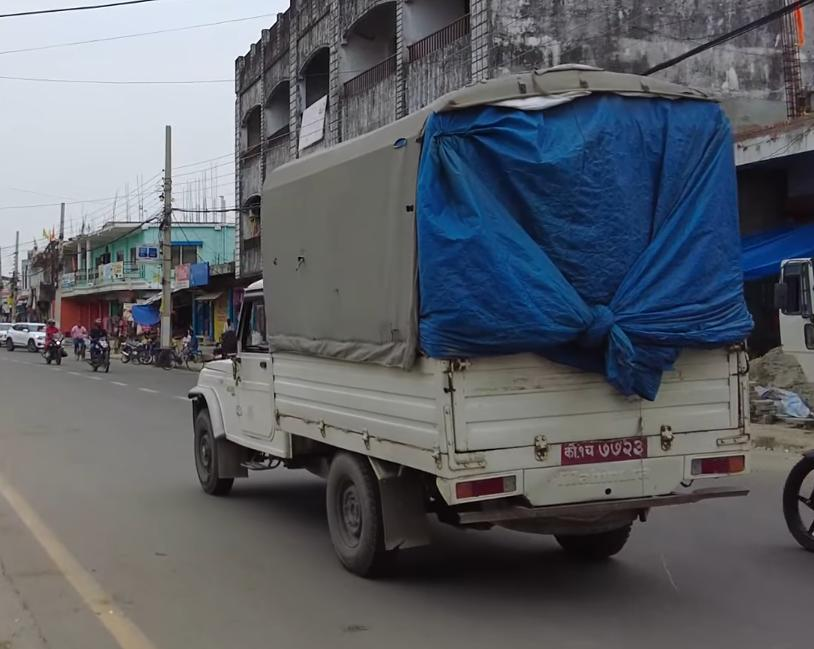bike: (83, 313, 114, 375), (40, 317, 67, 367)
taxi: (0, 310, 52, 363)
transport_vehicle: (194, 60, 755, 581)
